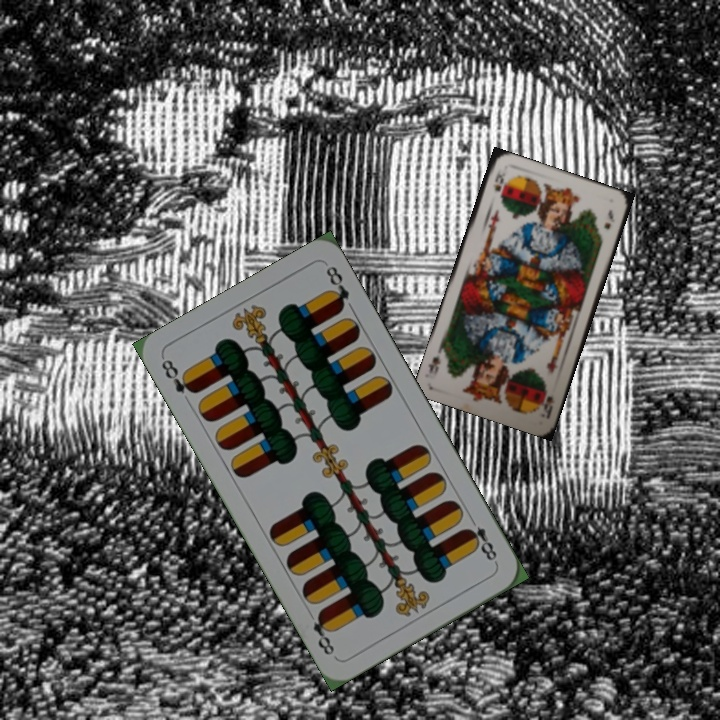E8: (461, 512, 500, 567), (157, 355, 199, 397)
SK: (538, 386, 557, 422), (488, 164, 507, 194)
